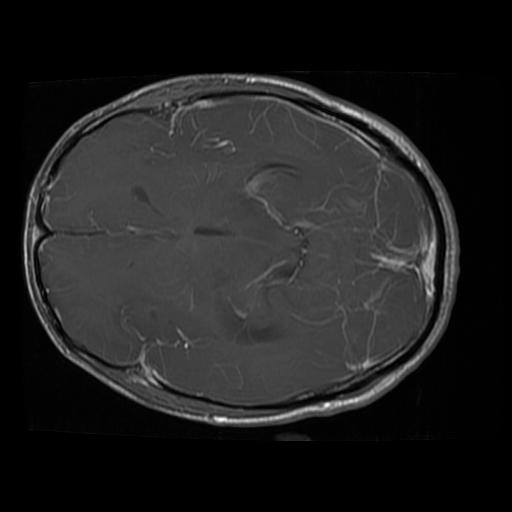glioma: (210, 290, 277, 346)
